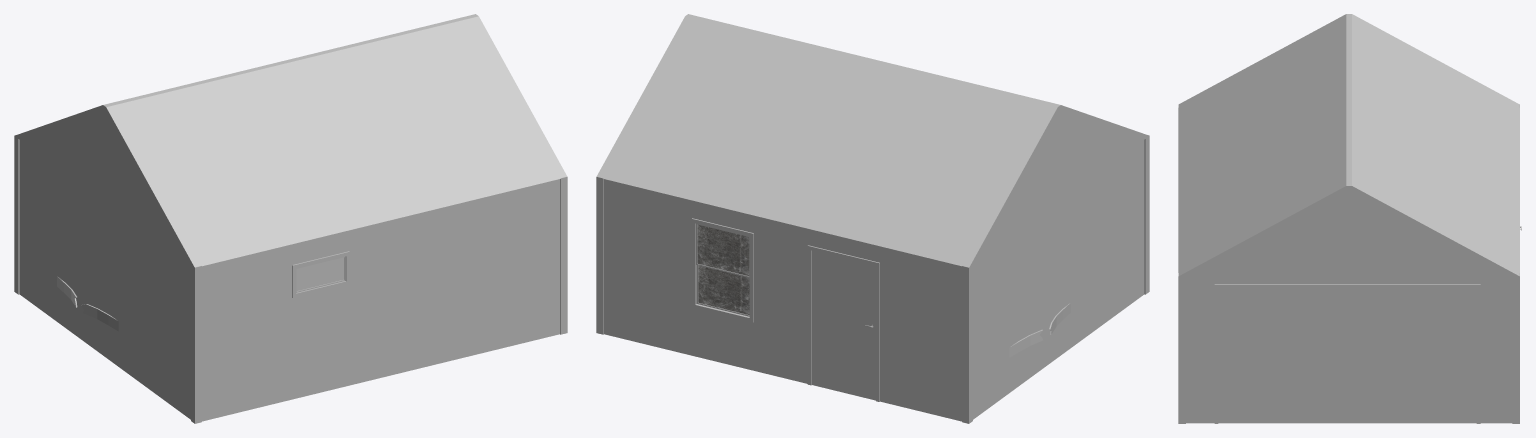
The model's file is Suburbs_garage1.fbx.
3 views of the same model, side by side, from view 1: azimuth 30°, elevation 25°; view 2: azimuth 150°, elevation 25°; view 3: azimuth 270°, elevation 25° (orthographic). The views are drawn at different scales.
Visible parts, largest first — view 1: Cube.1356, Plane.498, Plane.567; view 2: Plane.498, Cube.1356, Cube.1799, Plane.562, Plane.565; view 3: Plane.498, Cube.1356, Cube.050, Cube.003, Cube.051, Cube.038.
Part boxes in pixels (left/top/right/bottom): Cube.1356: left=14, top=135, right=567, bottom=423; Plane.498: left=15, top=14, right=567, bottom=267; Plane.567: left=296, top=257, right=344, bottom=290; Plane.498: left=596, top=14, right=1148, bottom=267; Cube.1356: left=596, top=135, right=1149, bottom=423; Cube.1799: left=812, top=250, right=875, bottom=399; Plane.562: left=697, top=225, right=749, bottom=275; Plane.565: left=698, top=265, right=749, bottom=314; Plane.498: left=1178, top=14, right=1519, bottom=276; Cube.1356: left=1178, top=104, right=1519, bottom=423; Cube.050: left=1218, top=321, right=1476, bottom=354; Cube.003: left=1218, top=354, right=1476, bottom=387; Cube.051: left=1218, top=387, right=1476, bottom=420; Cube.038: left=1218, top=288, right=1476, bottom=320.
Bounding box in the file's own units: 637 × 403 × 527.
